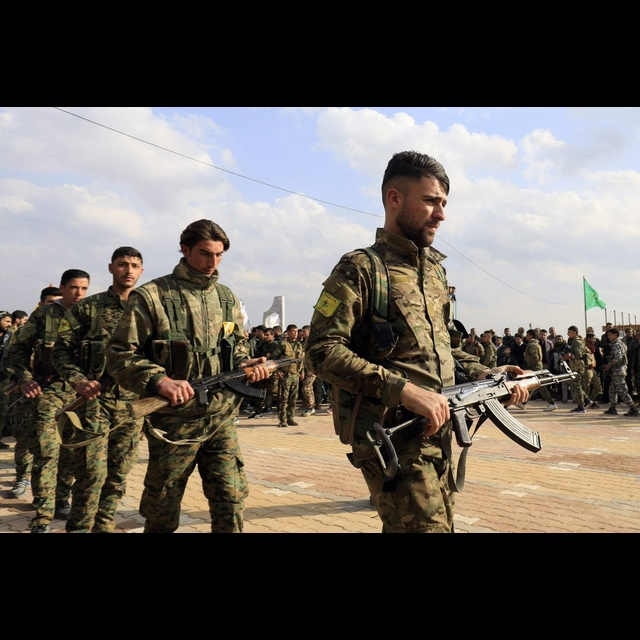AK47: (424, 348, 589, 455), (183, 339, 304, 418)
